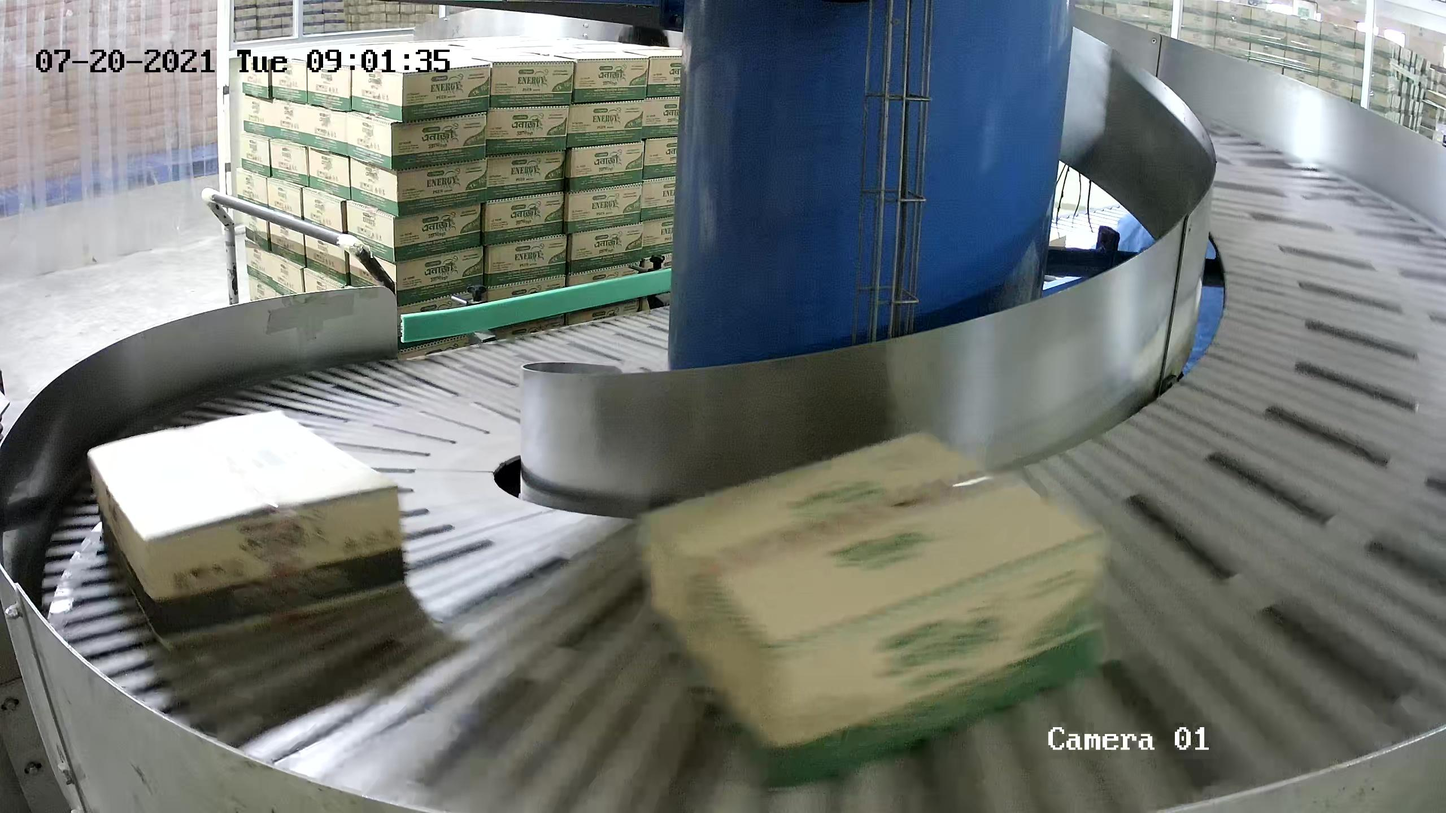Box: (630, 420, 1113, 798), (83, 405, 410, 655)
